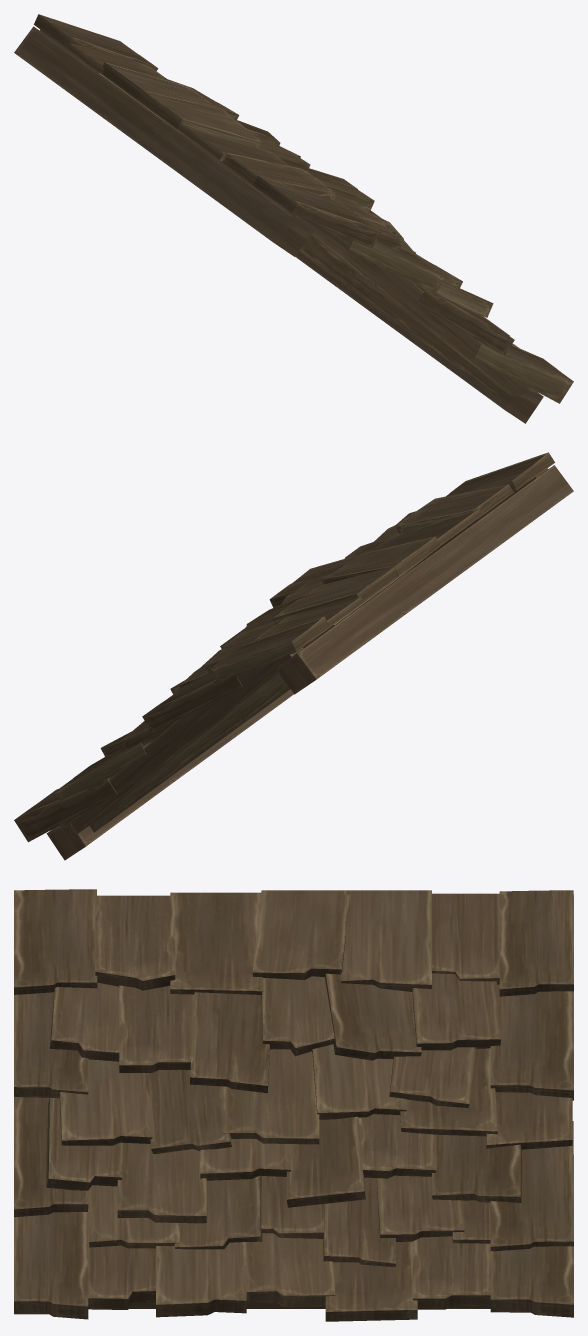
File: SM_Stylized_Wood_Half_Roof.glb
3 views of the same model, one above another, from view 1: azimuth 30°, elevation 25°; view 2: azimuth 150°, elevation 25°; view 3: azimuth 270°, elevation 25° (orthographic). The views are drawn at different scales.
Parts seen in each view (by area): view 1: SM_Stylized_Wood_Half_Roof; view 2: SM_Stylized_Wood_Half_Roof; view 3: SM_Stylized_Wood_Half_Roof.
Part boxes in pixels (bbox=[...]): SM_Stylized_Wood_Half_Roof: bbox=[14, 14, 573, 423]; SM_Stylized_Wood_Half_Roof: bbox=[14, 452, 573, 860]; SM_Stylized_Wood_Half_Roof: bbox=[14, 889, 573, 1321].
Size of the model in its own units: 2.04 by 1.77 by 3.01.
1 material, 1 textured.
